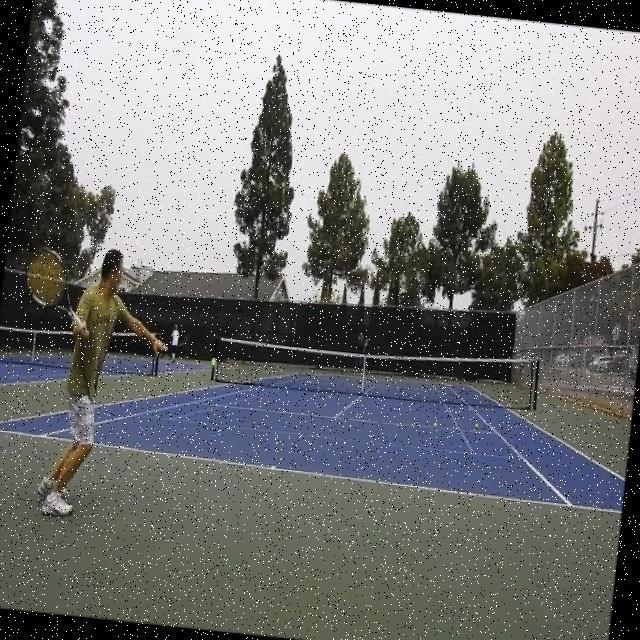court: (0, 336, 633, 512)
net: (210, 319, 542, 416)
player: (0, 239, 177, 526)
